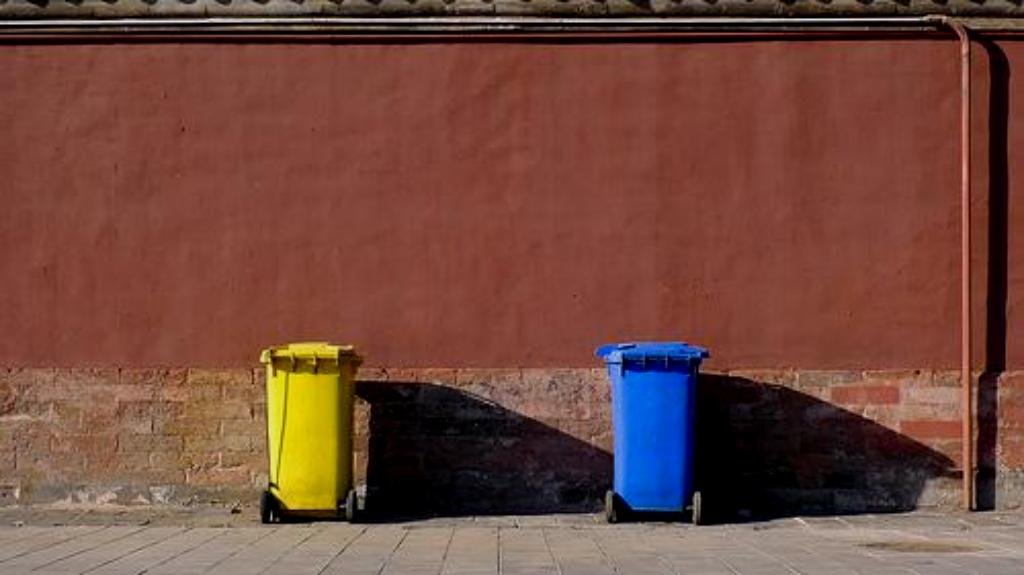dustbin: (598, 339, 724, 538), (257, 337, 370, 531)
